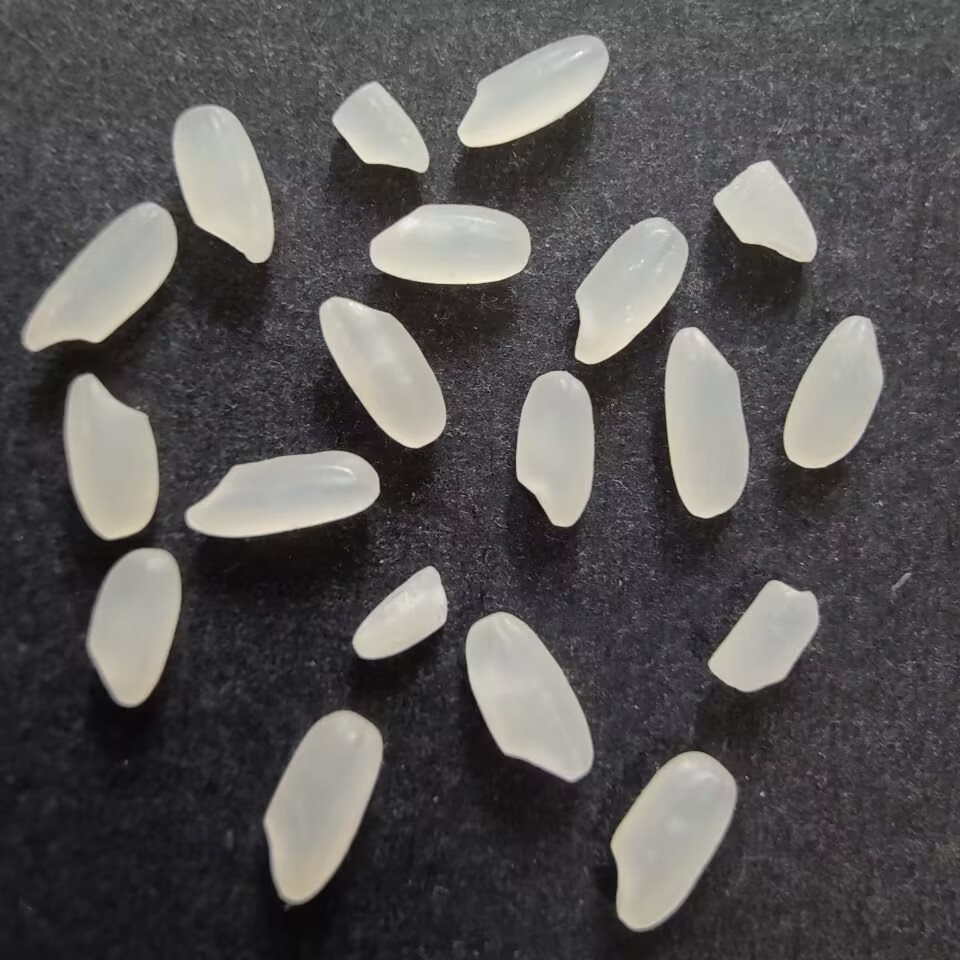broken: (704, 576, 828, 696), (712, 156, 819, 265), (350, 562, 453, 667), (330, 77, 435, 178)
rice: (19, 197, 181, 360), (260, 704, 384, 906), (606, 748, 740, 934), (463, 611, 597, 784), (315, 295, 450, 451), (452, 31, 613, 150), (567, 216, 691, 365), (169, 103, 281, 264), (180, 449, 380, 539), (660, 323, 750, 522), (780, 310, 887, 474), (61, 373, 162, 542), (86, 544, 183, 716), (510, 365, 599, 531), (365, 202, 534, 287)
